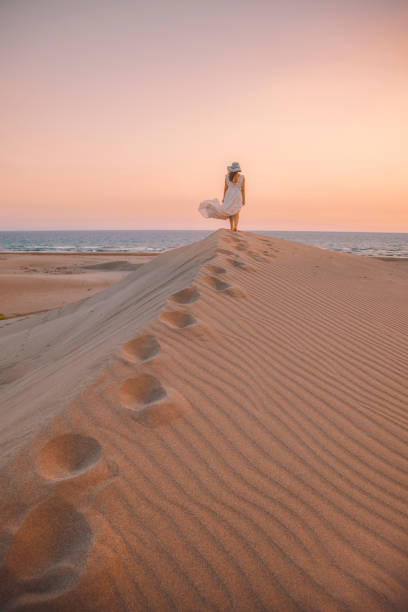human_foot_print: (0, 432, 116, 609), (0, 496, 92, 609), (36, 432, 117, 505), (119, 373, 190, 428), (36, 433, 101, 480), (158, 285, 199, 329), (121, 333, 159, 362), (202, 275, 246, 296), (159, 310, 196, 328), (168, 286, 199, 303), (226, 258, 253, 271), (247, 249, 273, 262), (204, 264, 226, 274), (216, 248, 237, 255)
